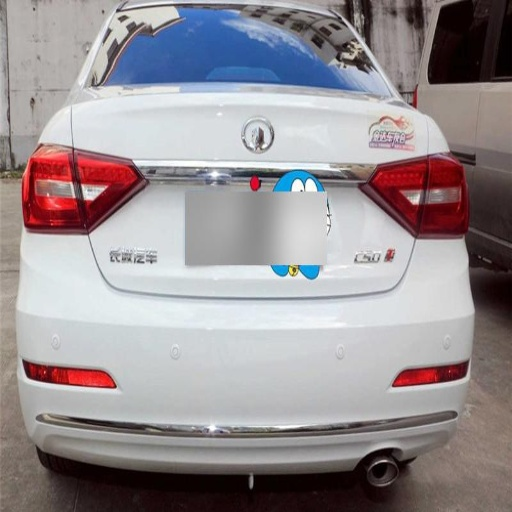back_bumper: (25, 223, 467, 492)
tailgate: (78, 83, 427, 295)
